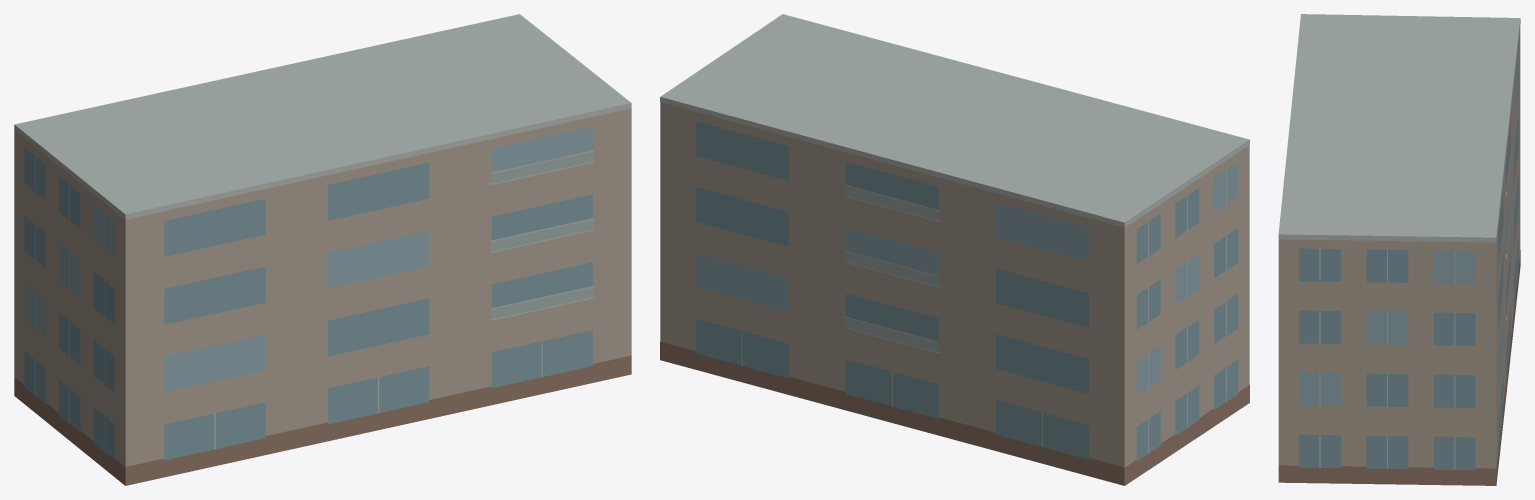
File: survey-upis-32593138.glb
3 views of the same model, side by side, from view 1: azimuth 30°, elevation 25°; view 2: azimuth 150°, elevation 25°; view 3: azimuth 270°, elevation 25° (orthographic). The views are drawn at different scales.
Visible parts, largest first — view 1: survey-upis-32593138.tmp; view 2: survey-upis-32593138.tmp; view 3: survey-upis-32593138.tmp.
Boxes of the visible parts, bbox=[...] form: survey-upis-32593138.tmp: bbox=[14, 14, 631, 485]; survey-upis-32593138.tmp: bbox=[660, 14, 1249, 485]; survey-upis-32593138.tmp: bbox=[1278, 14, 1520, 485].
Size of the model in its own units: 23.74 by 12.28 by 10.86.
